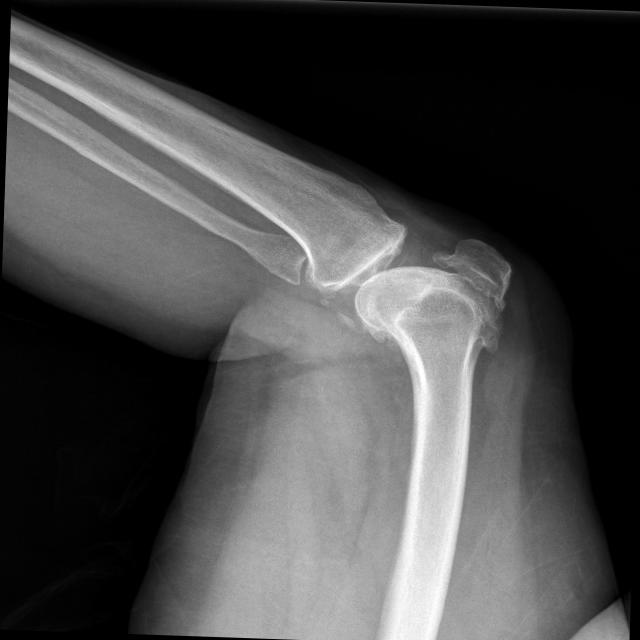Knee: (283, 202, 514, 376)
